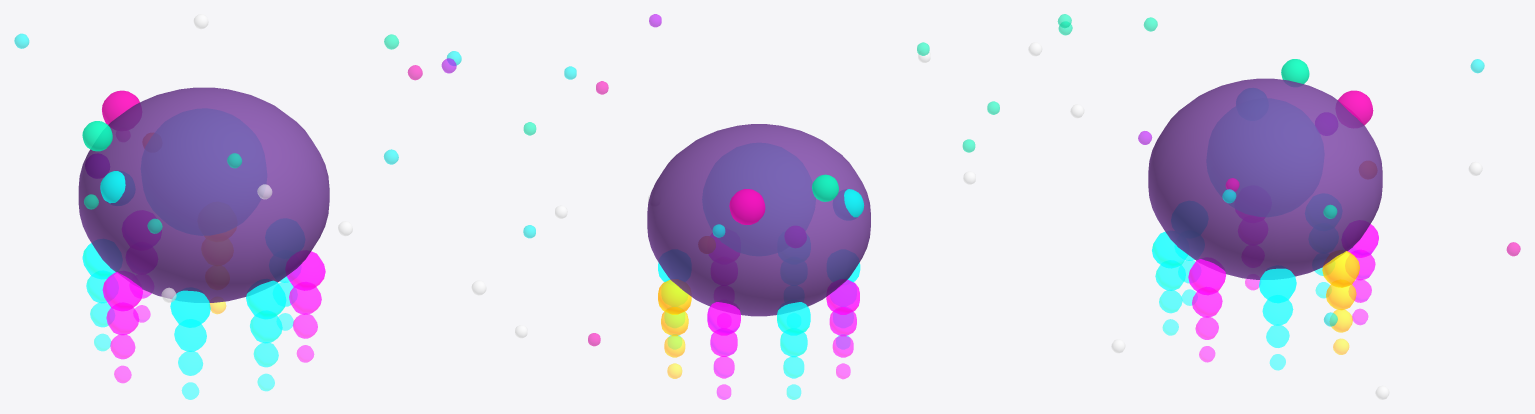
The model's file is creature.glb.
3 views of the same model, side by side, from view 1: azimuth 30°, elevation 25°; view 2: azimuth 150°, elevation 25°; view 3: azimuth 270°, elevation 25° (orthographic). The views are drawn at different scales.
Bounding box in the file's own units: 1.89 × 1.3 × 2.06.
